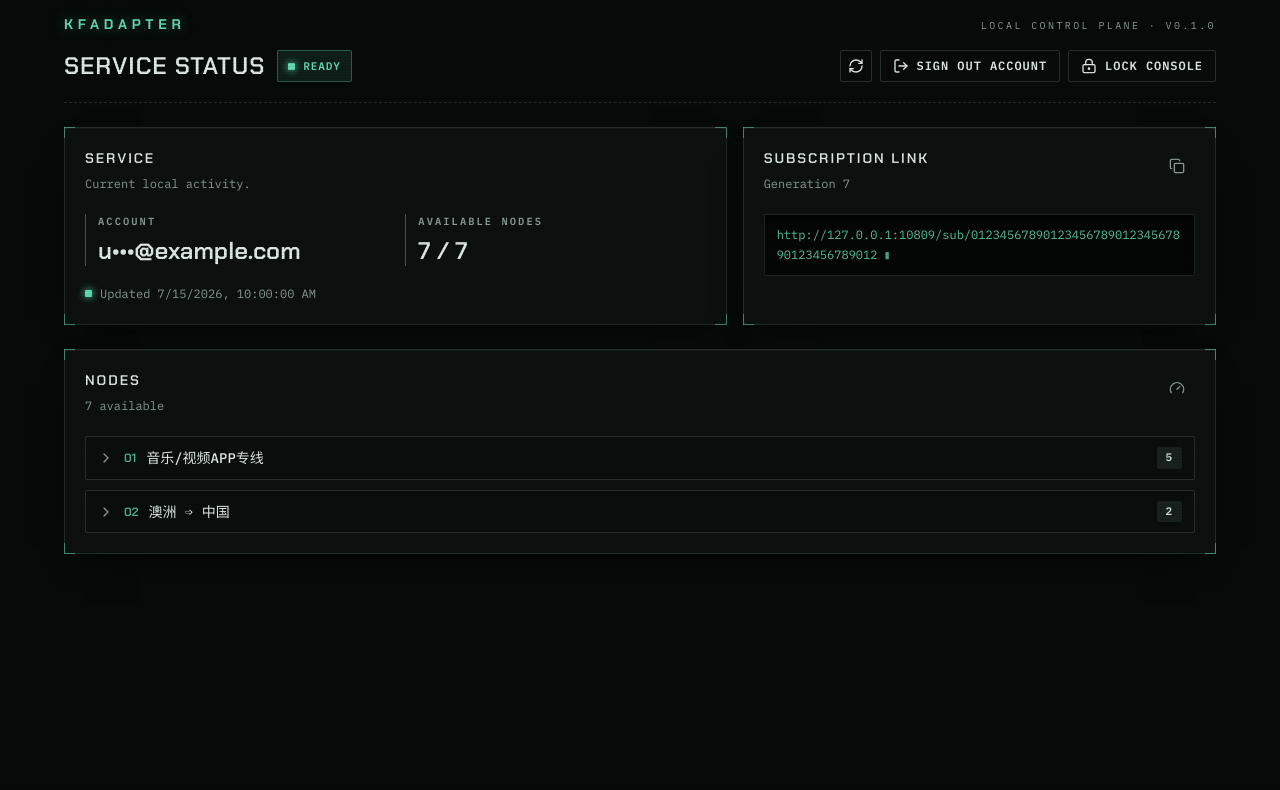
Test: access token and browser session › renders every logical catalog row supplied by the backend
This screenshot has width=1280, height=790.
Check: the text "7 available" is shown, box [85,398,164,413]
Check: the list item with aria-label "音乐/视频APP专线 group" shows "5", box [1166,450,1173,464]
Click the text "音乐/视频APP专线" at (205, 458), box [146,449,264,467]
(page scrolled)
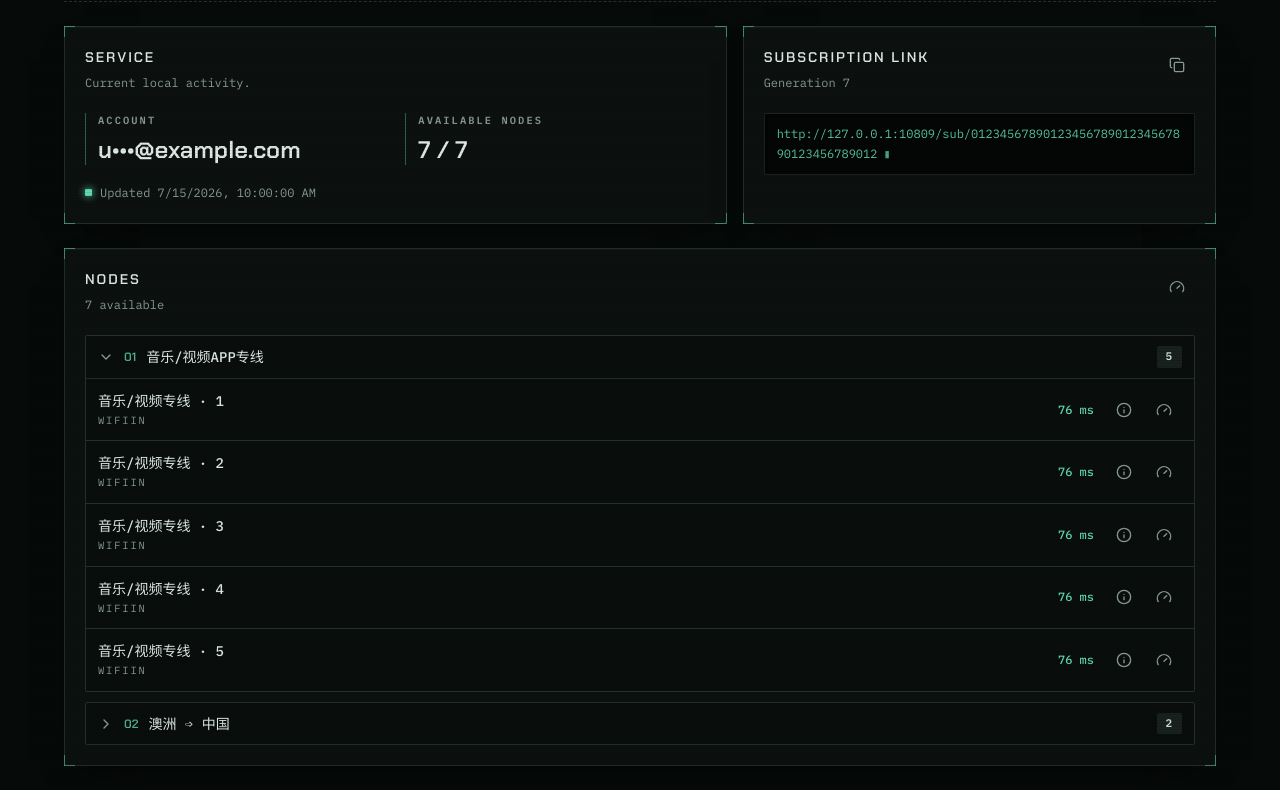
Check: the list item with aria-label "澳洲 ➩ 中国 group" shows "2", box [1166,716,1173,730]
Click the text "澳洲 ➩ 中国" at (189, 724), box [148,715,230,733]
(page scrolled)
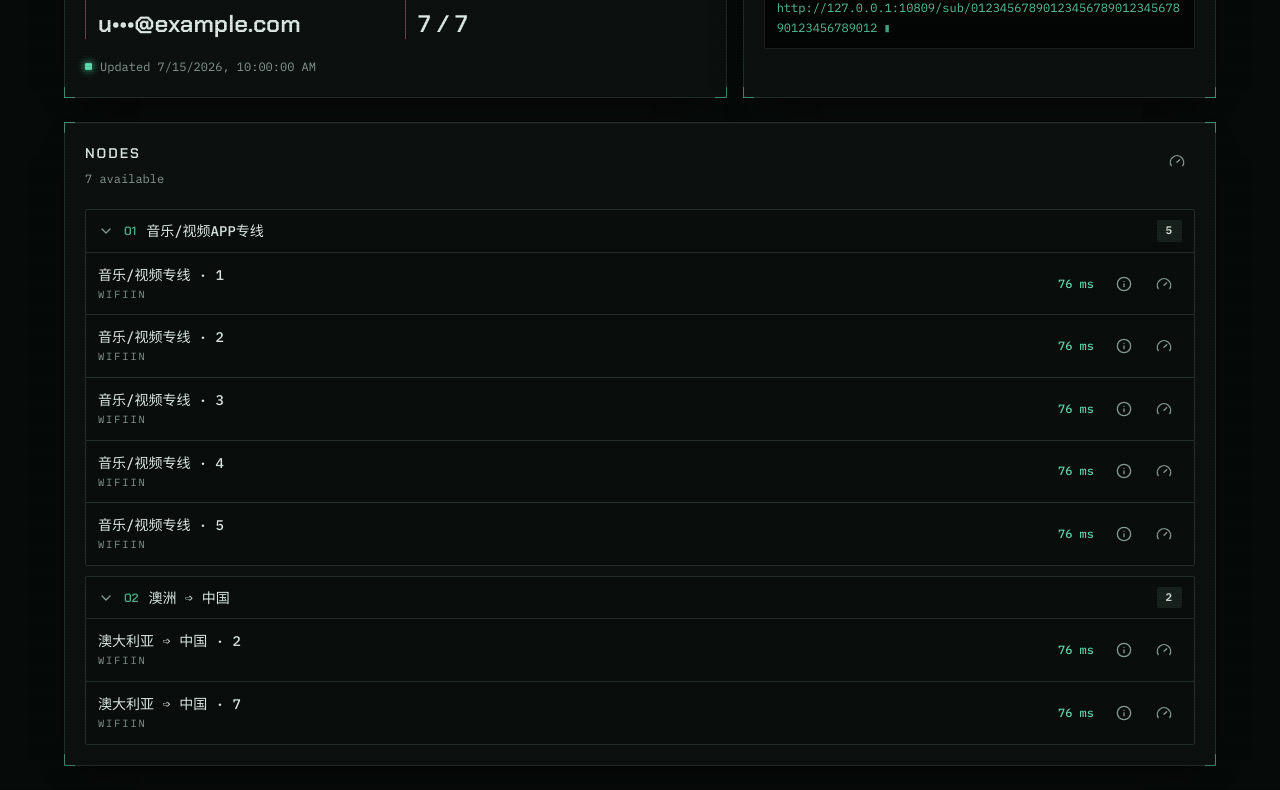
Check: the list item "澳大利亚 ➩ 中国 · 2" is shown, box [86,620,1194,682]
Check: the list item "澳大利亚 ➩ 中国 · 7" is shown, box [98,695,1182,731]
